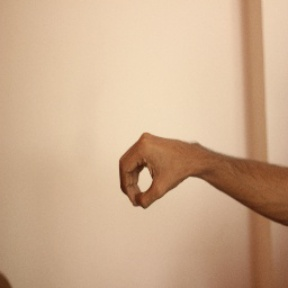O: (116, 129, 194, 210)
